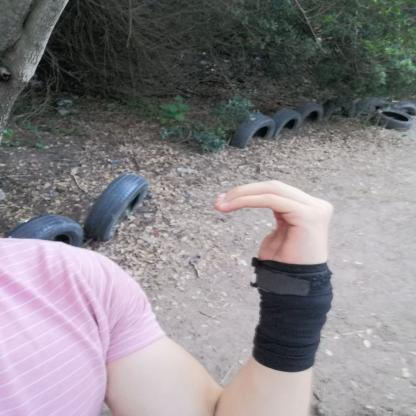HAA: (199, 167, 352, 290)
